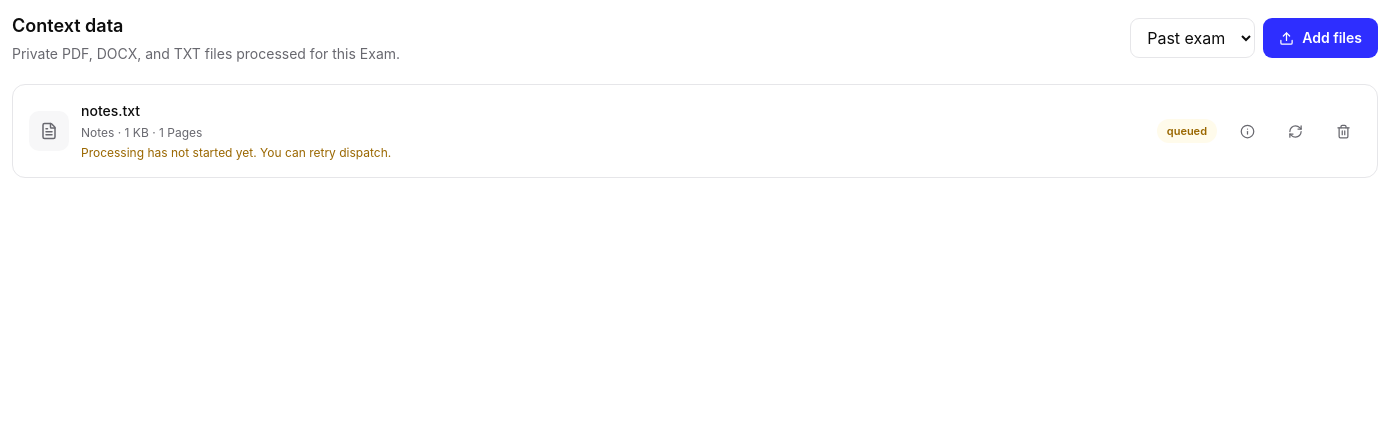
Test case: ArtifactManager › polls queued files to a terminal state and refreshes the selected summary
Click the button named "Details for notes.txt" at x=1247, y=131, box [1229, 113, 1265, 149]
Wait 1500 ms
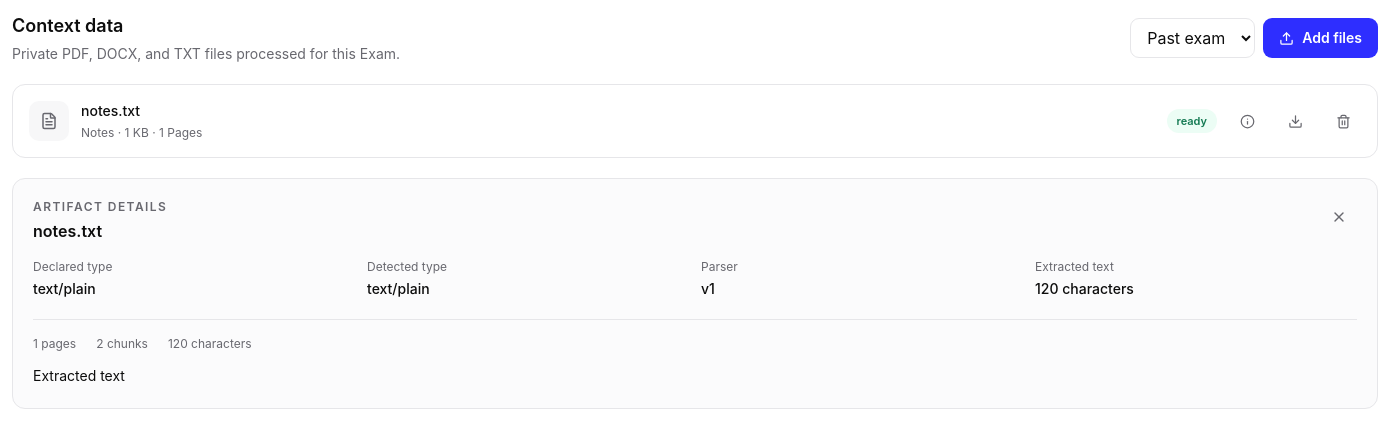
Expected: the text "Extracted text" below "chunks" is shown, [33, 367, 125, 384]
Expected: the text "ready" is shown, [1166, 109, 1217, 133]
